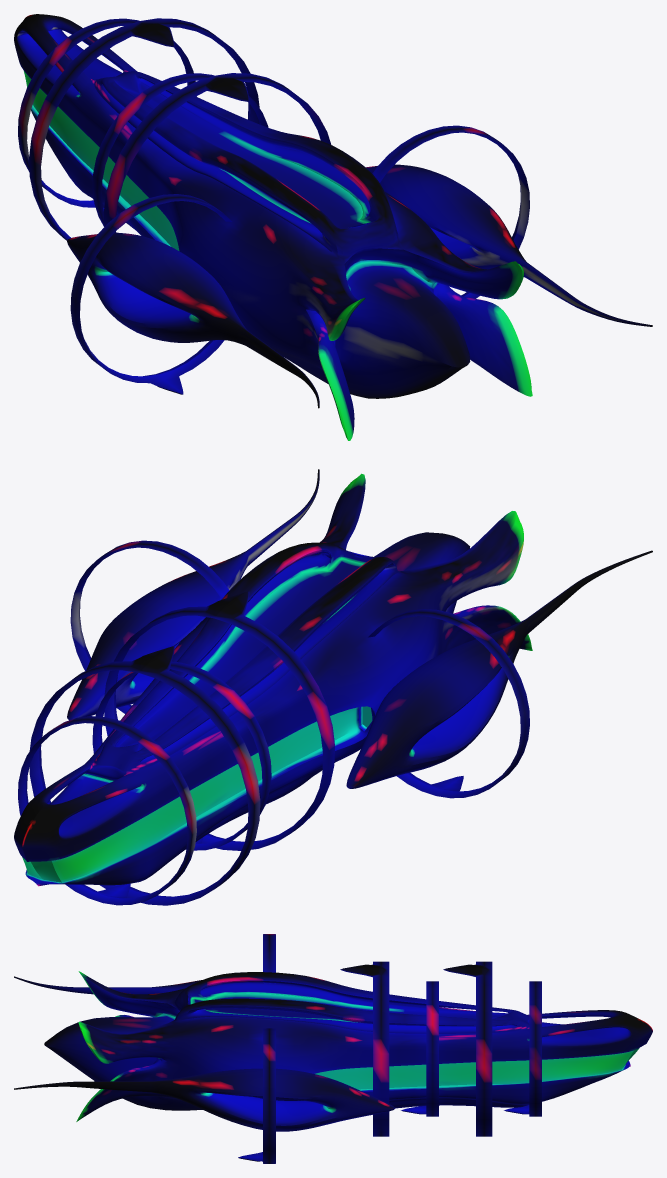
Rendered from stl_valeriaShip.fbx.
3 renders of one model, top to bottom at view 1: azimuth 30°, elevation 25°; view 2: azimuth 150°, elevation 25°; view 3: azimuth 270°, elevation 25°, orthographic. The views are drawn at different scales.
Parts seen in each view (by area): view 1: stl_valeriaShip; view 2: stl_valeriaShip; view 3: stl_valeriaShip.
Boxes of the visible parts, box(x1,y1,x2,y2) form: stl_valeriaShip: box(14, 14, 652, 440); stl_valeriaShip: box(14, 469, 652, 905); stl_valeriaShip: box(14, 934, 652, 1163).
Size of the model in its own units: 2089 by 1033 by 3719.
